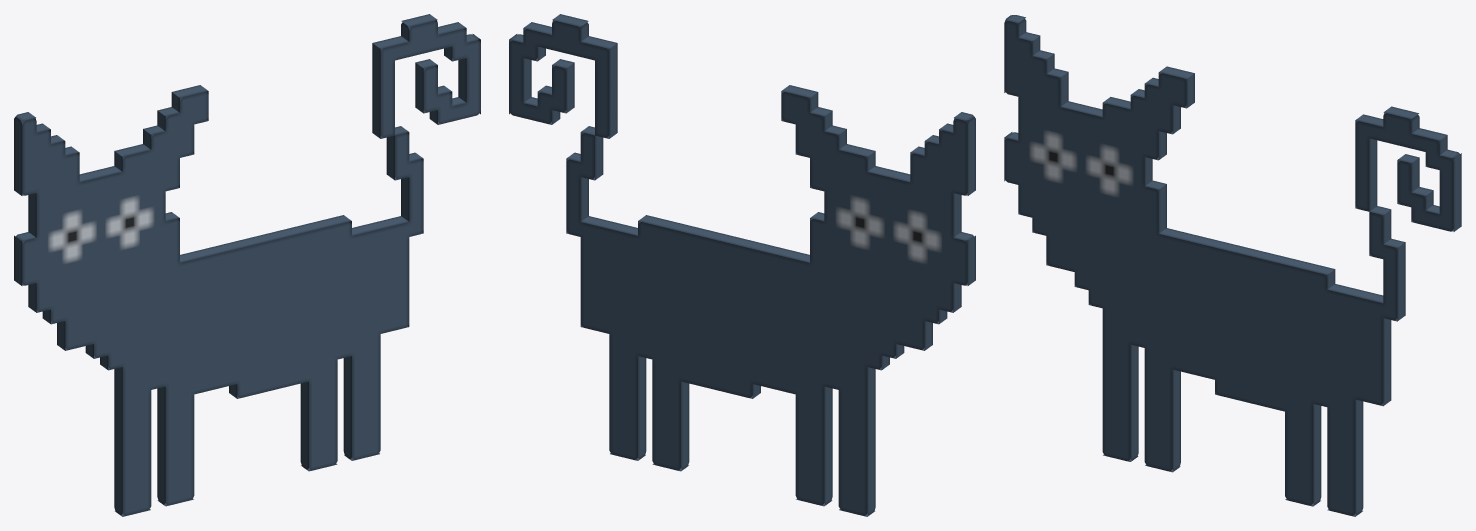
Rendered from cat7N.fbx.
3 views of the same model, side by side, from view 1: azimuth 30°, elevation 25°; view 2: azimuth 150°, elevation 25°; view 3: azimuth 330°, elevation 25° (orthographic). The views are drawn at different scales.
Visible parts, largest first — view 1: generated; view 2: generated; view 3: generated.
Part boxes in pixels (x1,y1,x2,y2): generated: [14, 14, 480, 516]; generated: [509, 14, 975, 516]; generated: [1004, 15, 1461, 516].
Bounding box in the file's own units: 320 × 280 × 10.
